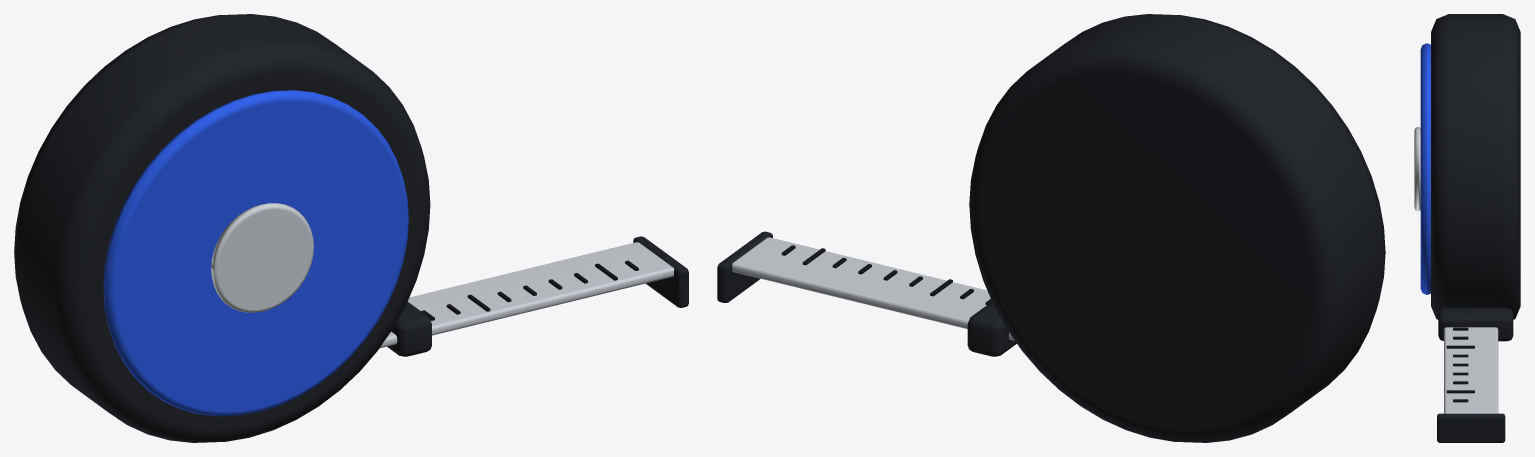
Rendered from measuring-tape.glb.
The picture shows the model from 3 angles, left to right: view 1: azimuth 30°, elevation 25°; view 2: azimuth 150°, elevation 25°; view 3: azimuth 270°, elevation 25°; orthographic projection. The views are drawn at different scales.
Visible parts, largest first — view 1: SM_TapeFace, SM_ModelGeometry_LiftGraphite, SM_MeasuringRibbon, SM_TapeCenter, SM_TapeHook, SM_TapePullSlide_LiftInk; view 2: SM_ModelGeometry_LiftGraphite, SM_MeasuringRibbon, SM_TapeHook, SM_TapePullSlide_LiftInk; view 3: SM_ModelGeometry_LiftGraphite, SM_MeasuringRibbon, SM_TapeFace, SM_TapeHook, SM_TapePullSlide_LiftInk, SM_TapeCenter.
Boxes of the visible parts, x1=… form: SM_TapeFace: x1=103, y1=90, x2=408, y2=416; SM_ModelGeometry_LiftGraphite: x1=14, y1=14, x2=431, y2=442; SM_MeasuringRibbon: x1=380, y1=242, x2=674, y2=348; SM_TapeCenter: x1=211, y1=203, x2=313, y2=312; SM_TapeHook: x1=633, y1=236, x2=688, y2=307; SM_TapePullSlide_LiftInk: x1=421, y1=260, x2=638, y2=320; SM_ModelGeometry_LiftGraphite: x1=967, y1=14, x2=1385, y2=442; SM_MeasuringRibbon: x1=732, y1=237, x2=1014, y2=340; SM_TapeHook: x1=717, y1=231, x2=772, y2=302; SM_TapePullSlide_LiftInk: x1=781, y1=245, x2=991, y2=304; SM_ModelGeometry_LiftGraphite: x1=1431, y1=14, x2=1520, y2=341; SM_MeasuringRibbon: x1=1444, y1=327, x2=1498, y2=413; SM_TapeFace: x1=1420, y1=43, x2=1430, y2=294; SM_TapeHook: x1=1437, y1=413, x2=1505, y2=442; SM_TapePullSlide_LiftInk: x1=1446, y1=327, x2=1474, y2=402; SM_TapeCenter: x1=1414, y1=127, x2=1420, y2=211.
Bounding box in the file's own units: 2 × 1.19 × 0.4067.
